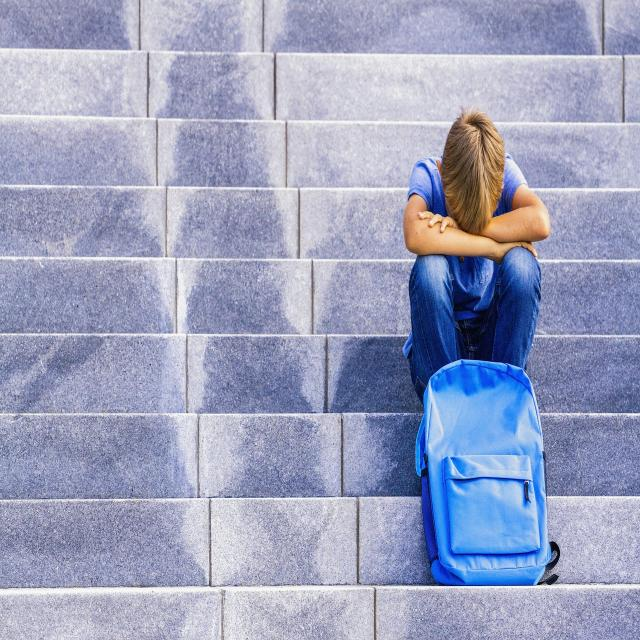child: (403, 109, 548, 391)
